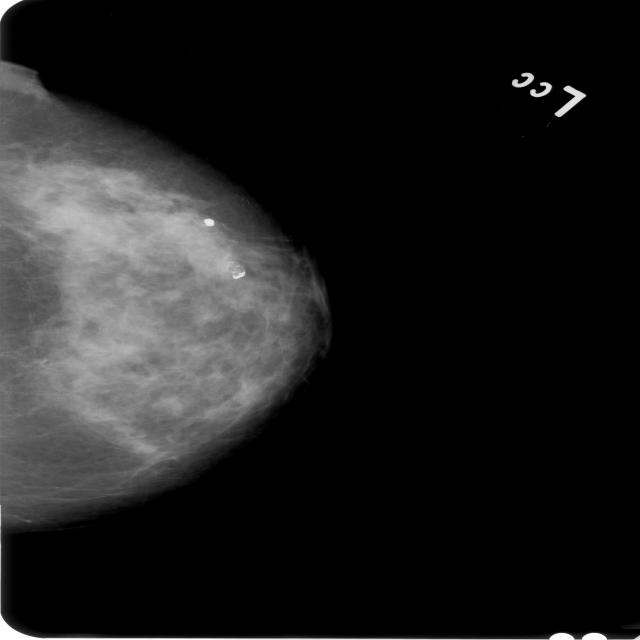cancer: (19, 150, 272, 408)
